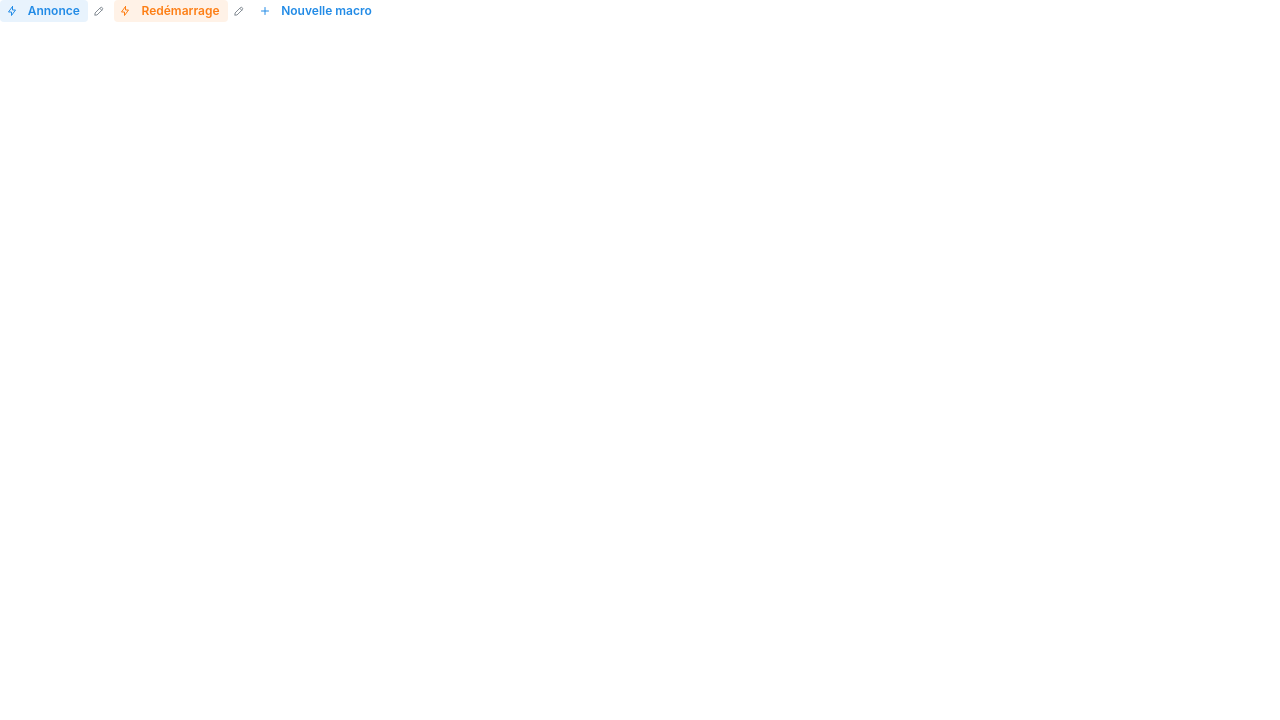
Test: barre de macros › annuler la confirmation n’envoie rien
The image size is (1280, 720).
Click the button with test id "macro-run-m2" at (171, 11), box [114,0,228,22]
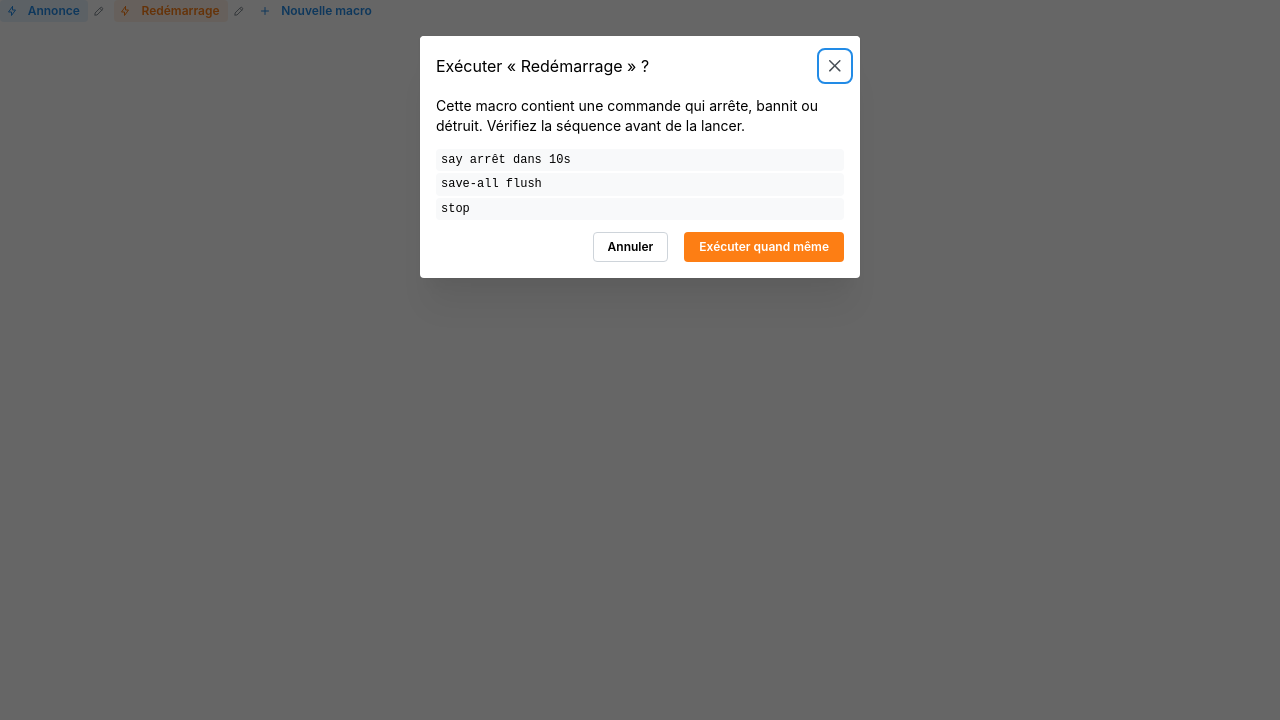
expect the button with test id "macro-confirm-run" is shown: met, box [684,232,844,262]
Click the button "Annuler" at (630, 247), box [593,232,668,262]
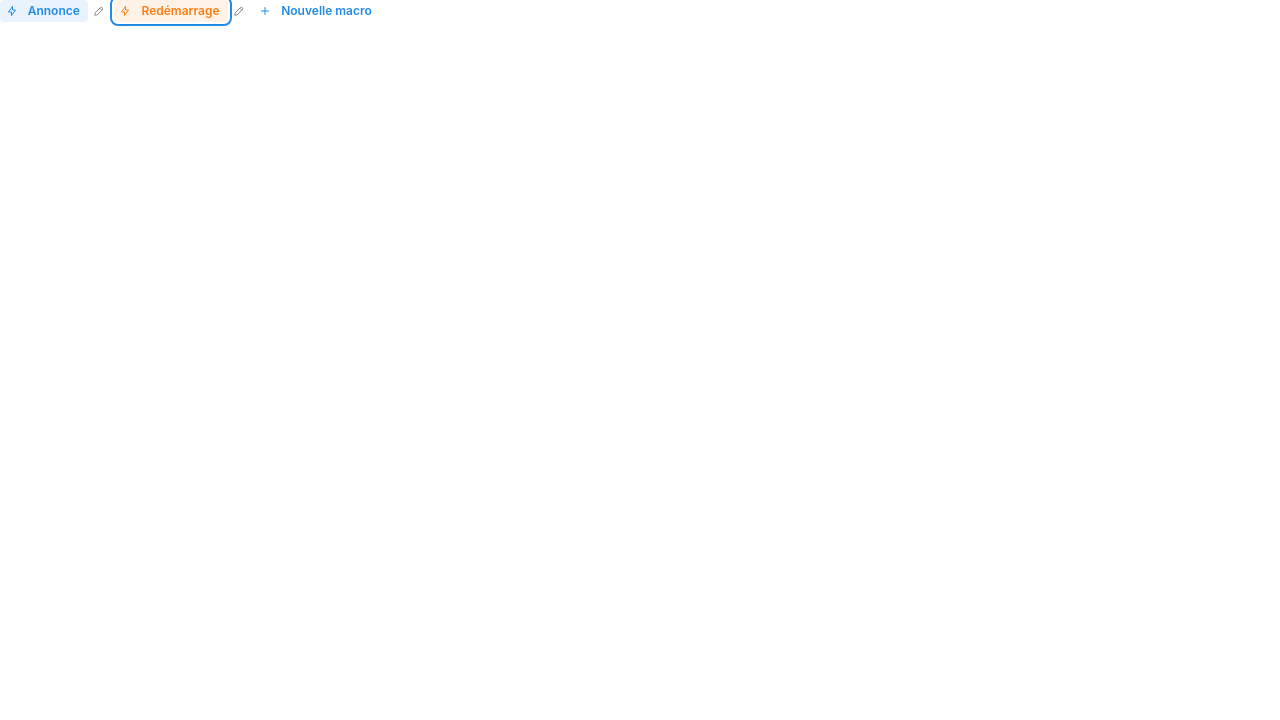
expect the button with test id "macro-confirm-run" is gone: met
